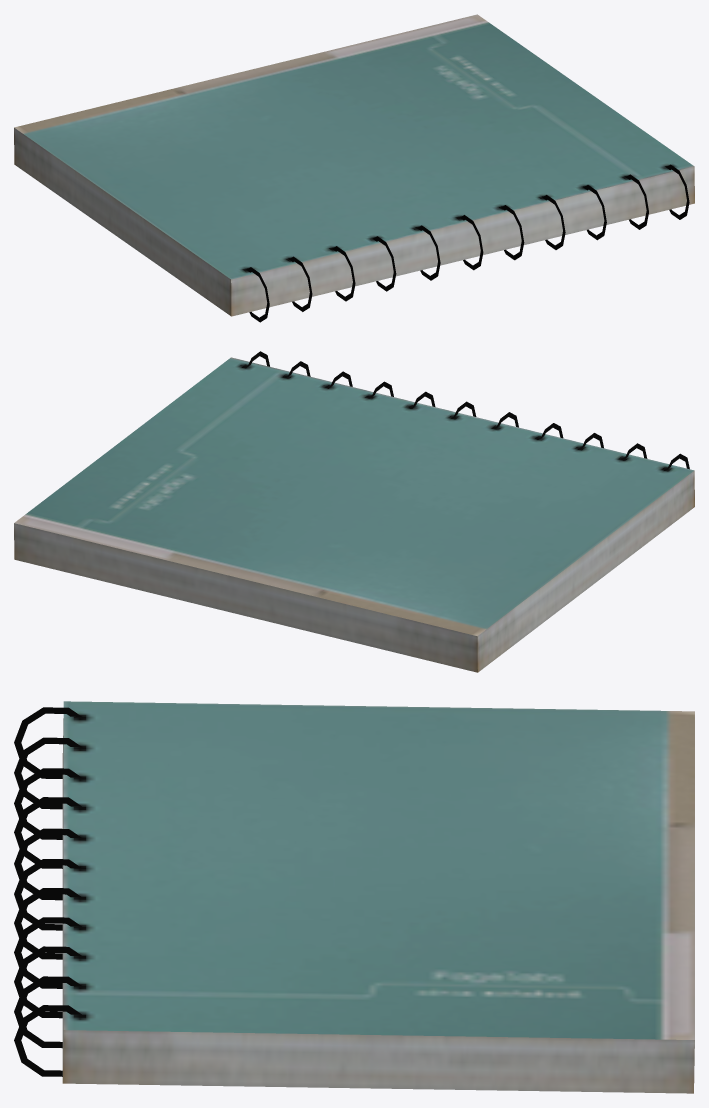
The model's file is NoteSheets.FBX.
The picture shows the model from 3 angles, top to bottom: view 1: azimuth 30°, elevation 25°; view 2: azimuth 150°, elevation 25°; view 3: azimuth 270°, elevation 25°; orthographic projection. The views are drawn at different scales.
Parts seen in each view (by area): view 1: NoteSheets; view 2: NoteSheets; view 3: NoteSheets.
Boxes of the visible parts, x1,y1,x2,y2 form: NoteSheets: [14, 14, 694, 322]; NoteSheets: [14, 351, 694, 672]; NoteSheets: [14, 701, 694, 1093].
Size of the model in its own units: 0.1938 by 0.02 by 0.1697.
